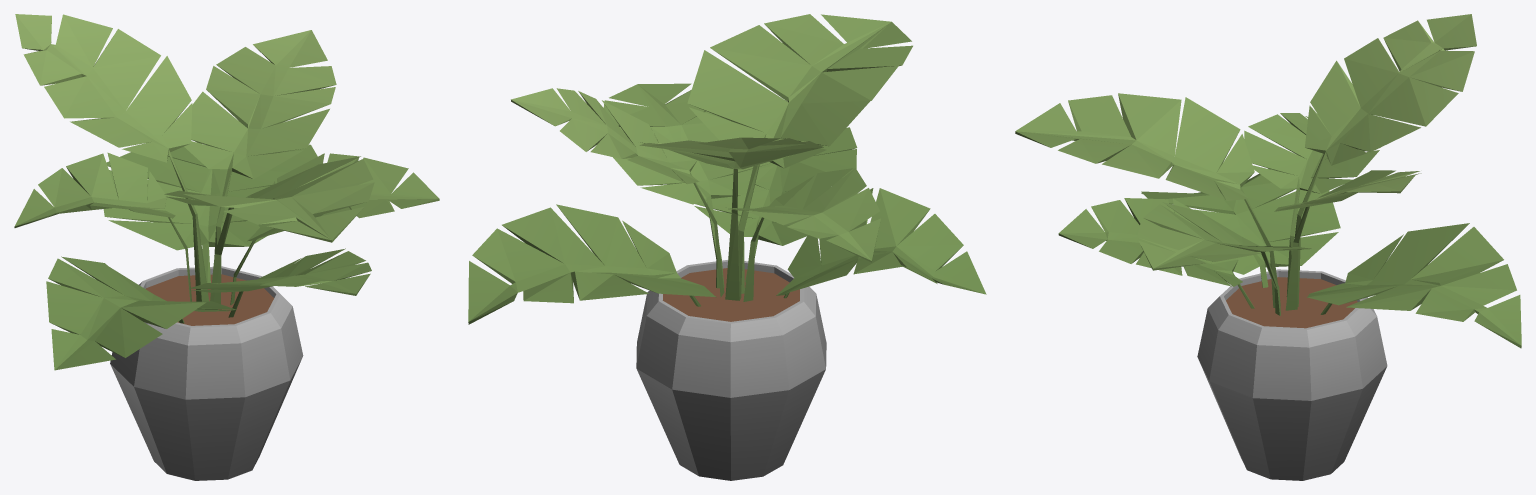
The model's file is Plant_14.fbx.
The picture shows the model from 3 angles, left to right: view 1: azimuth 30°, elevation 25°; view 2: azimuth 150°, elevation 25°; view 3: azimuth 270°, elevation 25°; orthographic projection. The views are drawn at different scales.
Visible parts, largest first — view 1: Plant_14; view 2: Plant_14; view 3: Plant_14.
Part boxes in pixels (x1,y1,x2,y2): Plant_14: (14, 14, 439, 480); Plant_14: (468, 14, 986, 480); Plant_14: (1015, 14, 1521, 480).
Bounding box in the file's own units: 103 × 108 × 125.
